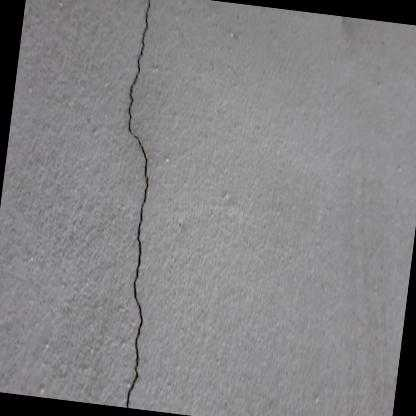crack: (125, 0, 149, 408)
